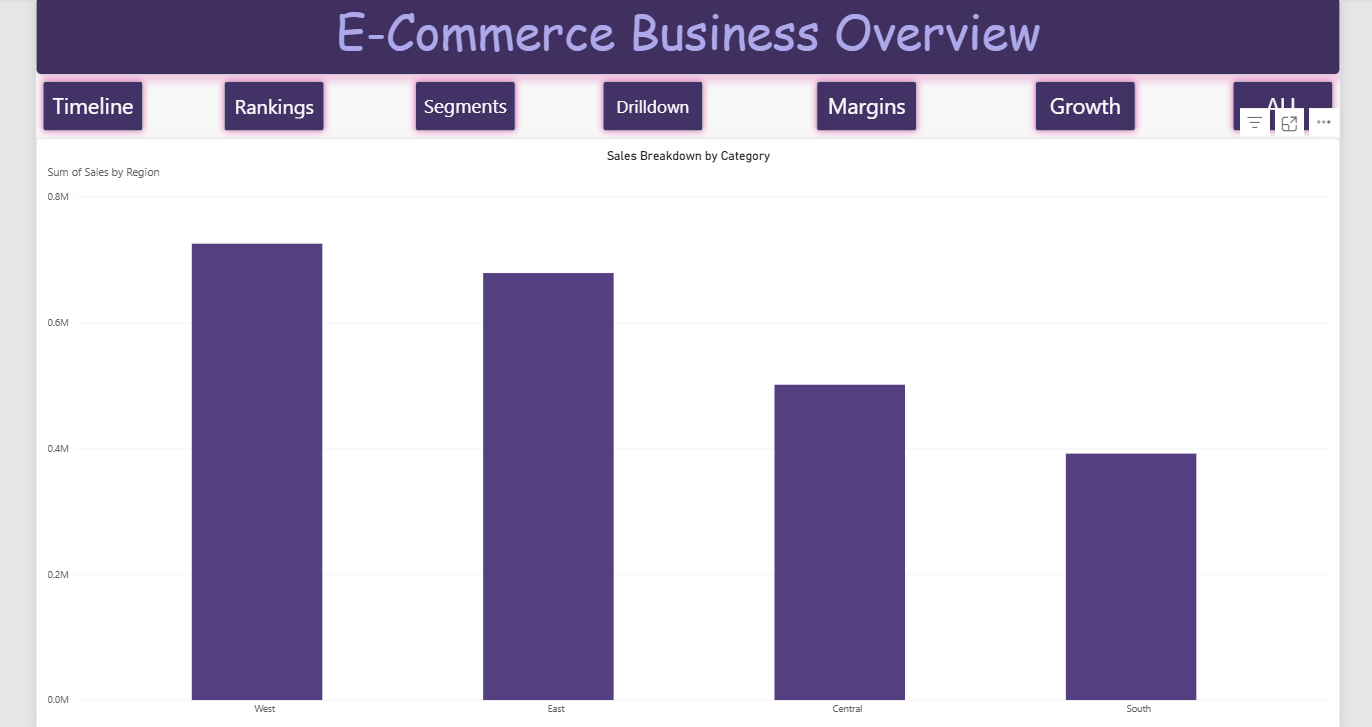

The dashboard page shown, as its layout file describes it:
{"tool":"powerbi","page":{"name":"Drilldown","canvas":[1920,1080],"ordinal":4},"visuals":[{"type":"textbox","title":"E-Commerce Business Overview","box":[0,0,1919.6,114.1],"z":0},{"type":"actionButton","box":[0,113.6,167.6,93.1],"z":1000},{"type":"actionButton","box":[266.3,113.6,167.6,93.1],"z":2000},{"type":"actionButton","box":[549.3,113.6,167.6,93.1],"z":3000},{"type":"actionButton","box":[824.8,113.6,167.6,93.1],"z":4000},{"type":"actionButton","box":[1139.5,113.6,167.6,93.1],"z":5000},{"type":"actionButton","box":[1461.6,113.6,167.6,93.1],"z":6000},{"type":"actionButton","box":[1752.1,113.6,167.6,93.1],"z":7000},{"type":"clusteredColumnChart","title":"Sales Breakdown by Category","fields":{"Category":["Orders.Region"],"Y":["Sum(Orders.Sales)"]},"box":[0,208,1919.6,872.4],"z":8000}]}

Visuals, with their boxes on the page's 1920x1080 design canvas (x1, y1, x2, y2). These are canvas units, not pixel positions in the 1372x727 screenshot, which may show the page scaled, cropped or inside an application window:
"E-Commerce Business Overview" textbox: locate(0, 0, 1920, 114)
actionButton: locate(0, 114, 168, 207)
actionButton: locate(266, 114, 434, 207)
actionButton: locate(549, 114, 717, 207)
actionButton: locate(825, 114, 992, 207)
actionButton: locate(1140, 114, 1307, 207)
actionButton: locate(1462, 114, 1629, 207)
actionButton: locate(1752, 114, 1920, 207)
"Sales Breakdown by Category" clusteredColumnChart: locate(0, 208, 1920, 1080)
